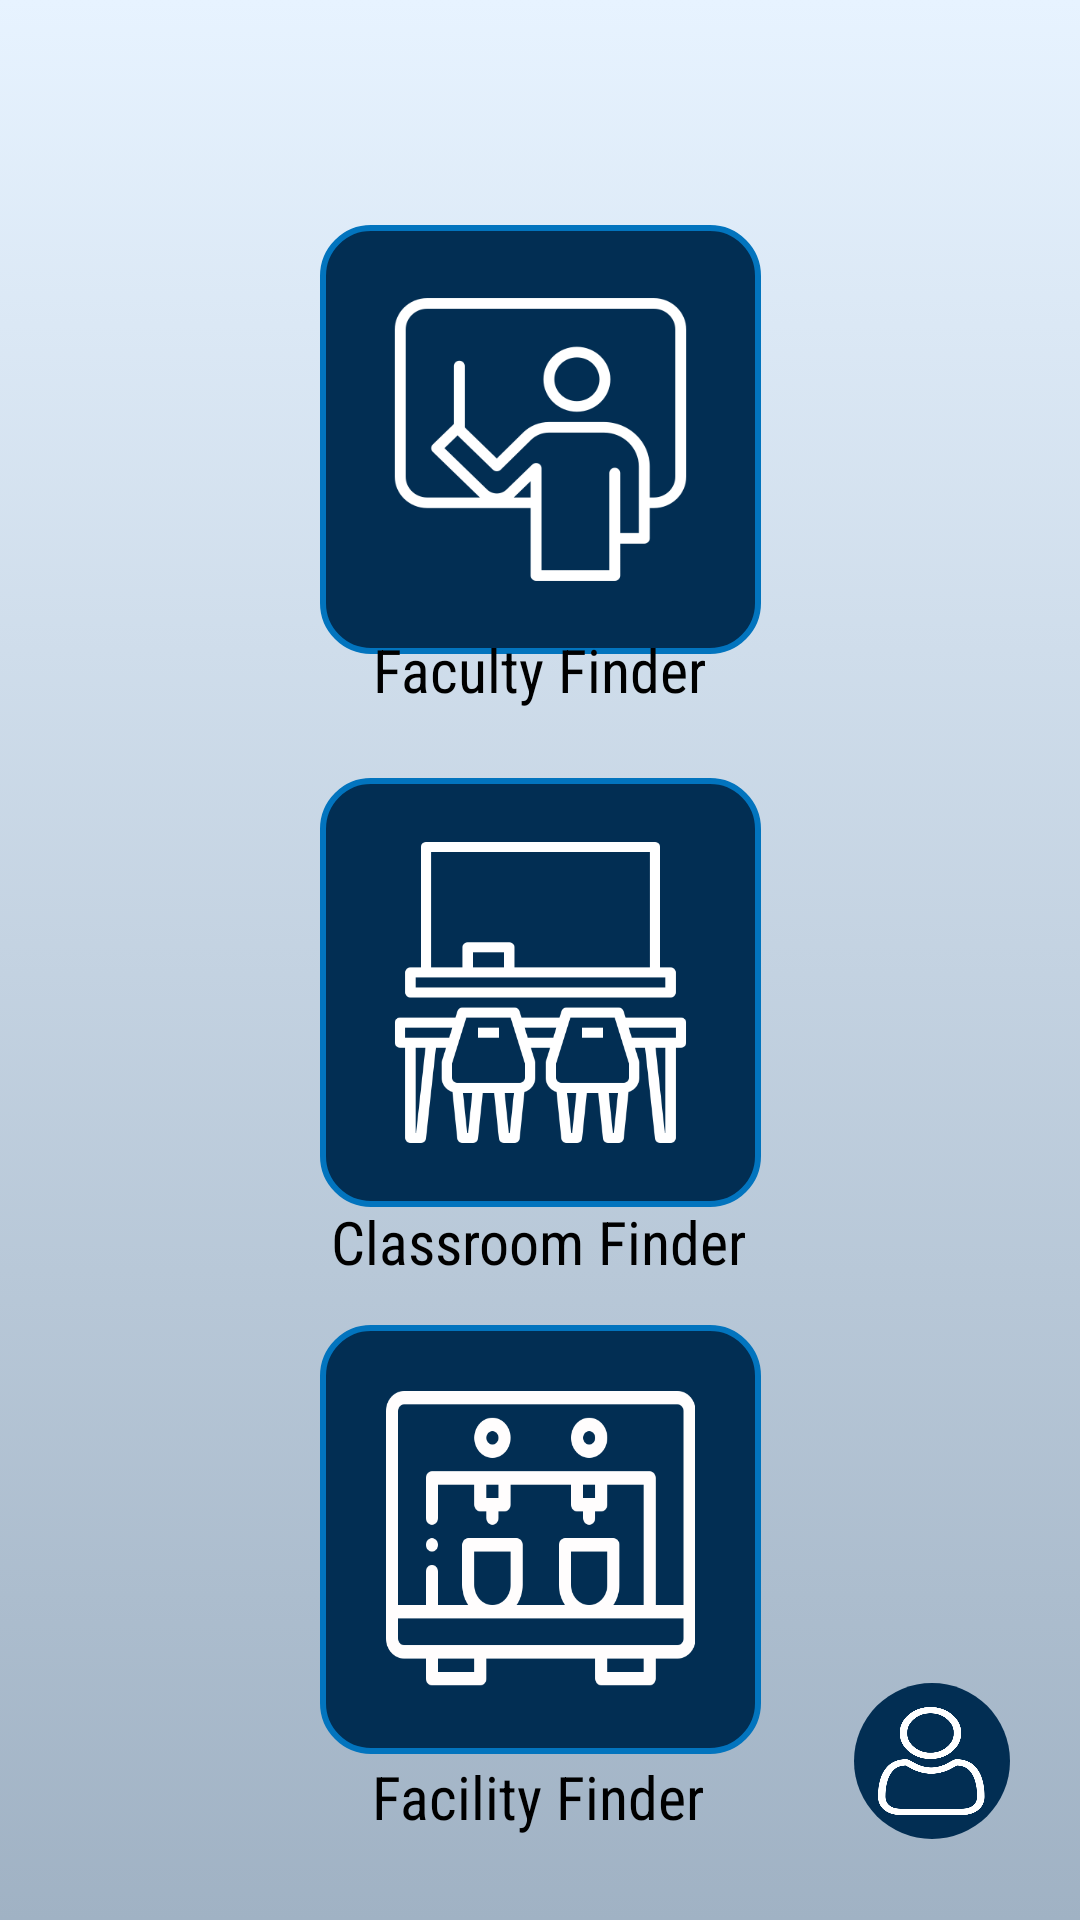

Icons on this 1080x1920 Android screen, each with the point to tap as (x=x, y=y):
Button to for admin login: (x=932, y=1761)
